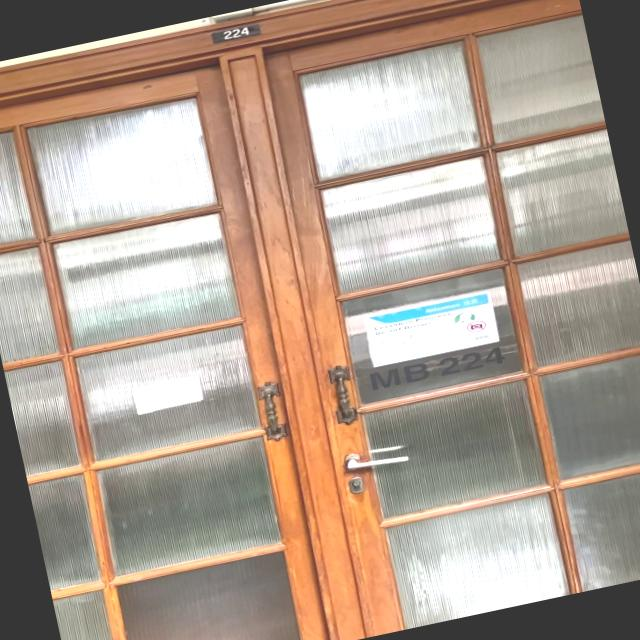room224: (206, 20, 265, 46)
room224Window: (362, 342, 512, 396)
